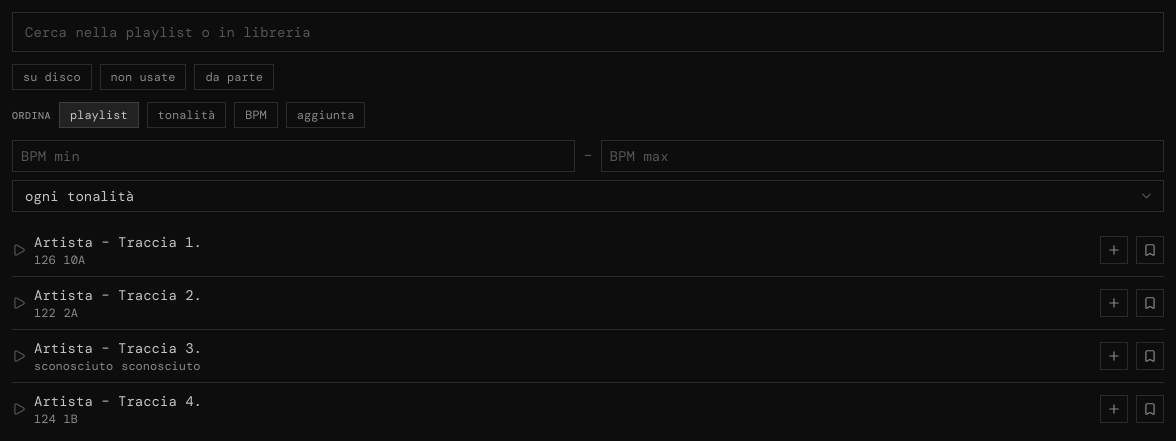
Test: materiale: ordinamento › aggiunta: dalle piu' recenti, e la riga mostra la data
Click the button "aggiunta" at (326, 115), box [286, 102, 365, 128]
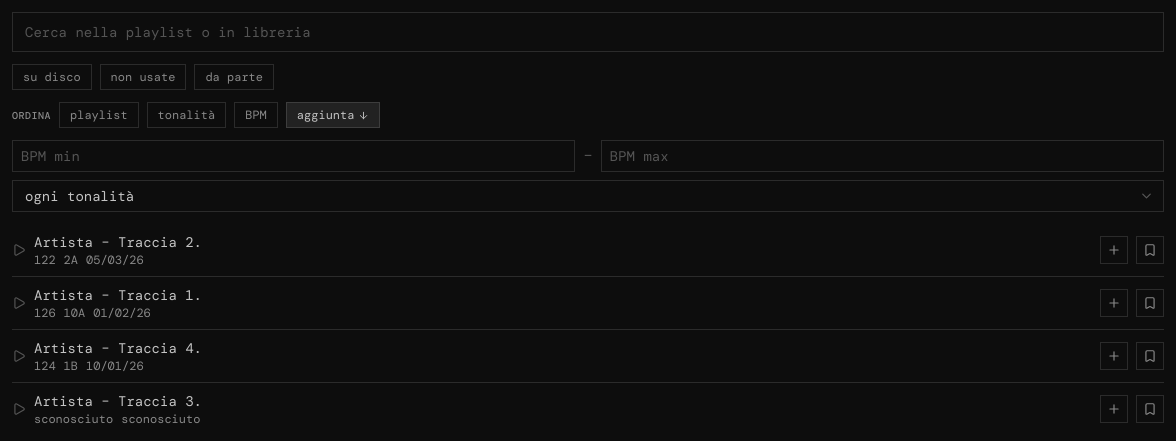
Expected: the text "05/03/26" is shown, [86, 252, 144, 268]
